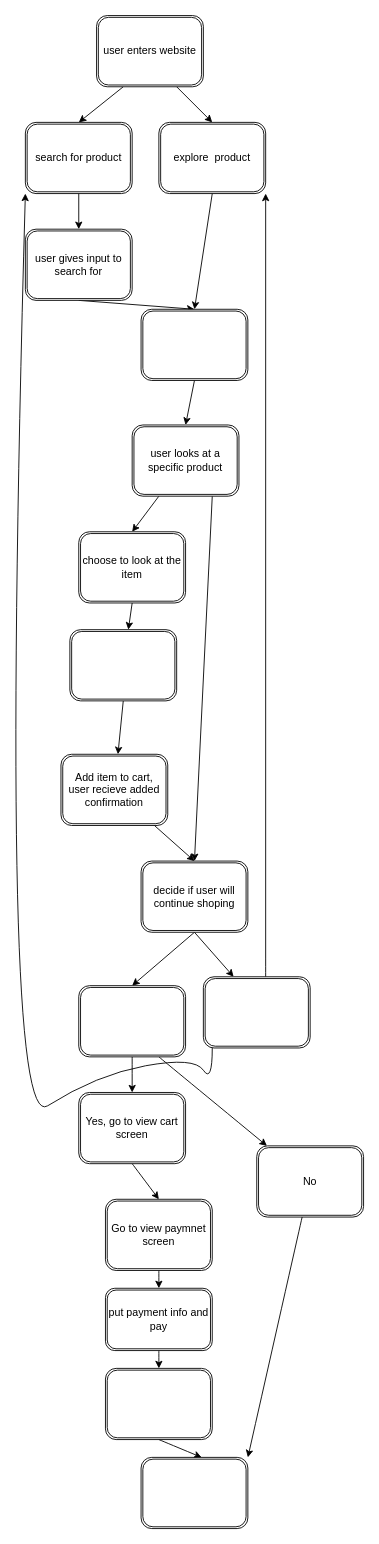
This 379x1544 diagram has some shape labels left out. The box of each missing label's shape, as (x1, y1, x2, y2) in pixels:
leave website: (140, 1456, 248, 1529)
No. Checkout or no?: (78, 985, 186, 1057)
product webpage will open: (69, 629, 177, 701)
recieve order comfinration screen and email: (105, 1367, 212, 1440)
user looks over products: (140, 308, 248, 380)
Yes: (202, 976, 310, 1048)
